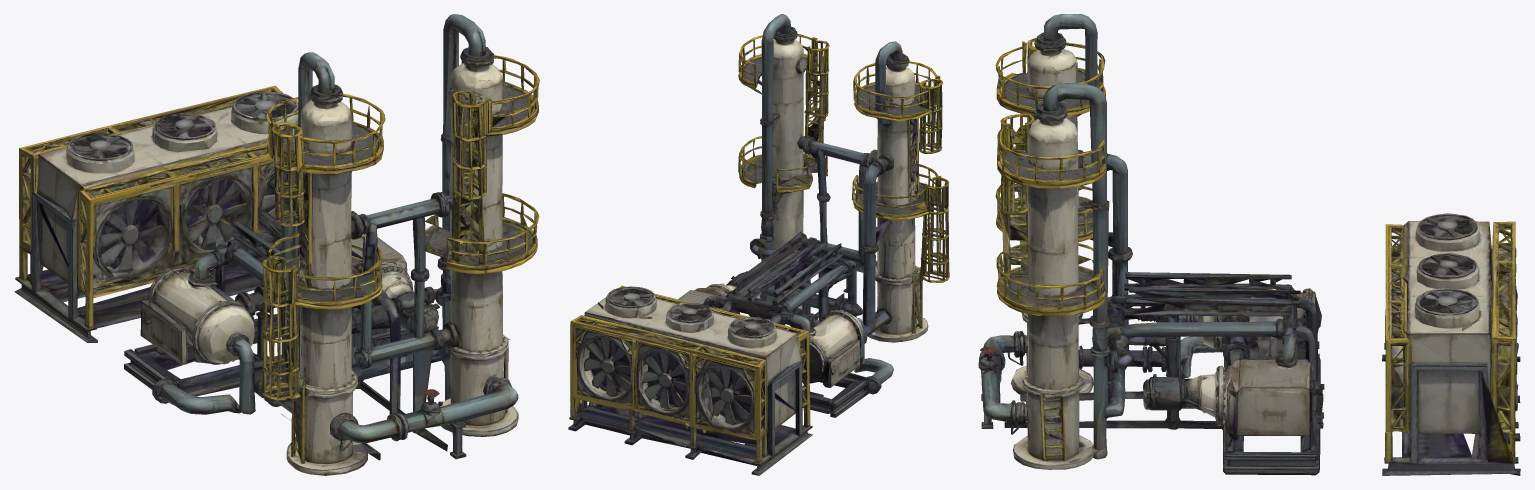
Rendered from amine.glb.
The picture shows the model from 3 angles, left to right: view 1: azimuth 30°, elevation 25°; view 2: azimuth 150°, elevation 25°; view 3: azimuth 270°, elevation 25°; orthographic projection. The views are drawn at different scales.
Bounding box in the file's own units: 1.07 × 1.44 × 1.9.
Materials: 1 (1 with a texture image).
